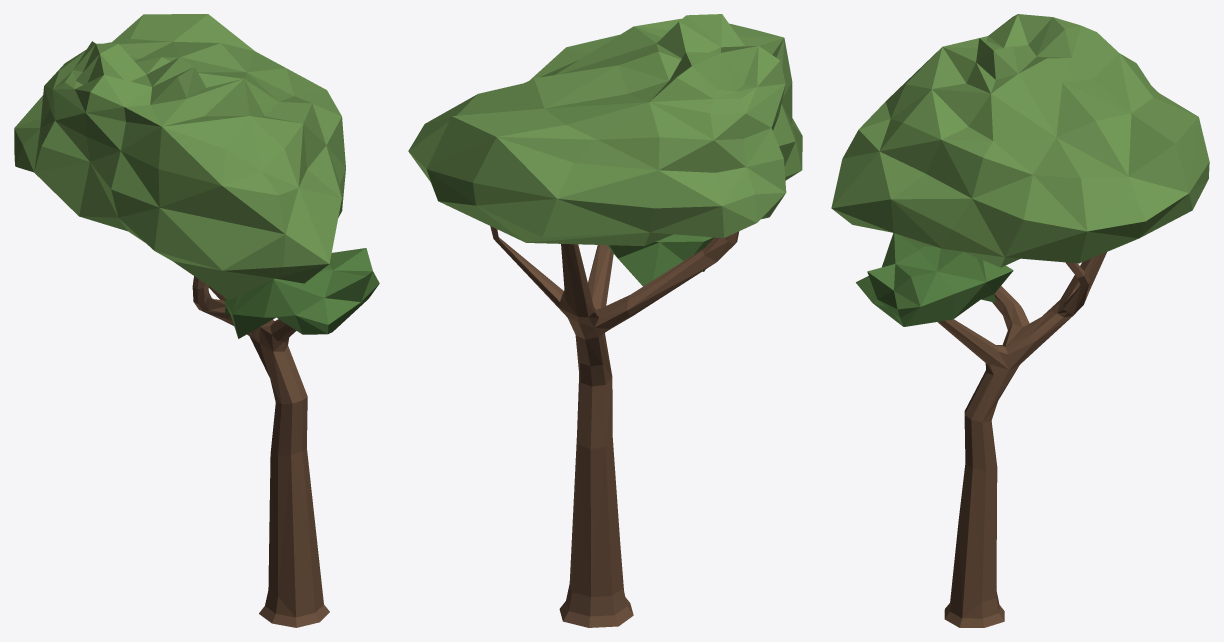
The model's file is CommonTree_4.glb.
3 views of the same model, side by side, from view 1: azimuth 30°, elevation 25°; view 2: azimuth 150°, elevation 25°; view 3: azimuth 270°, elevation 25° (orthographic). The views are drawn at different scales.
Visible parts, largest first — view 1: CommonTree_4; view 2: CommonTree_4; view 3: CommonTree_4.
Part boxes in pixels (bbox=[...]): CommonTree_4: bbox=[14, 14, 379, 627]; CommonTree_4: bbox=[408, 14, 802, 627]; CommonTree_4: bbox=[831, 14, 1209, 627].
Bounding box in the file's own units: 1.58 × 2.78 × 1.8.
